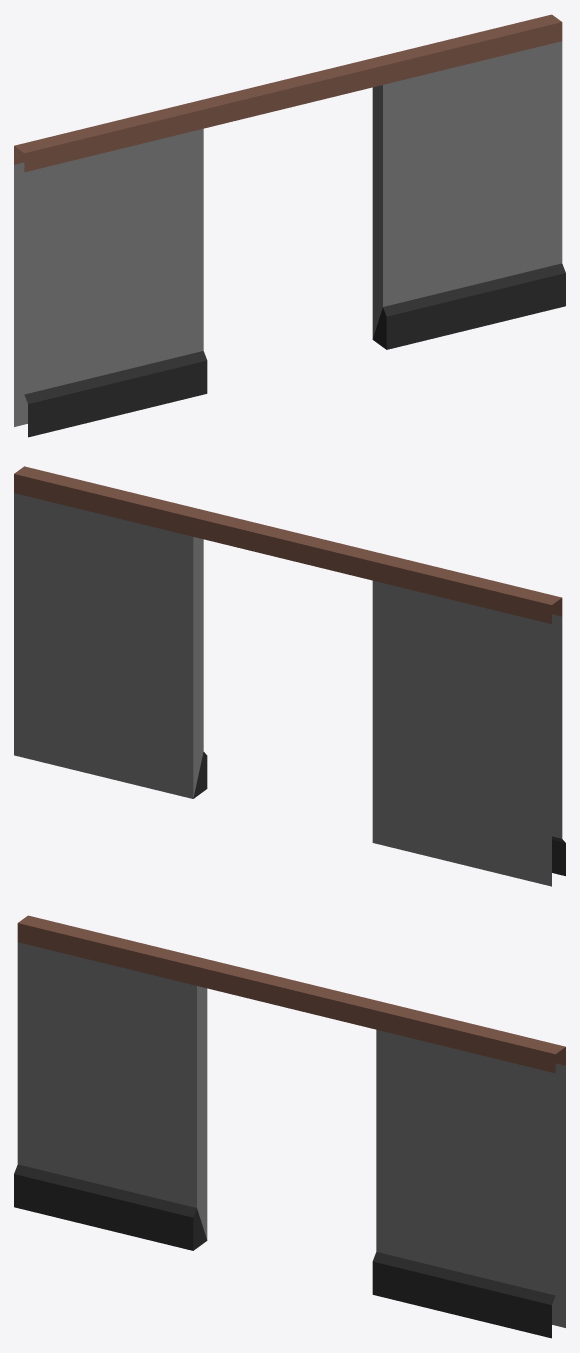
File: Wall2222.fbx
3 renders of one model, top to bottom at view 1: azimuth 30°, elevation 25°; view 2: azimuth 150°, elevation 25°; view 3: azimuth 330°, elevation 25°, orthographic.
Visible parts, largest first — view 1: Box014; view 2: Box014; view 3: Box014.
Boxes of the visible parts, left/top/right/bottom form: Box014: left=14, top=14, right=565, bottom=437; Box014: left=14, top=466, right=565, bottom=886; Box014: left=14, top=915, right=565, bottom=1338.
Size of the model in its own units: 600 by 300 by 27.18.
